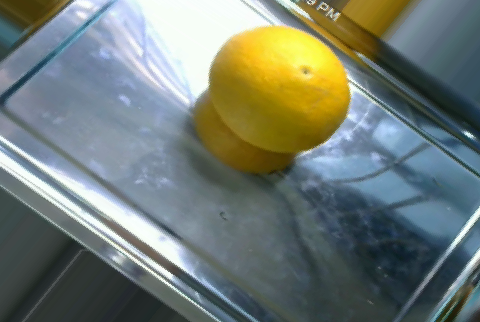Orange: (208, 24, 352, 155)
